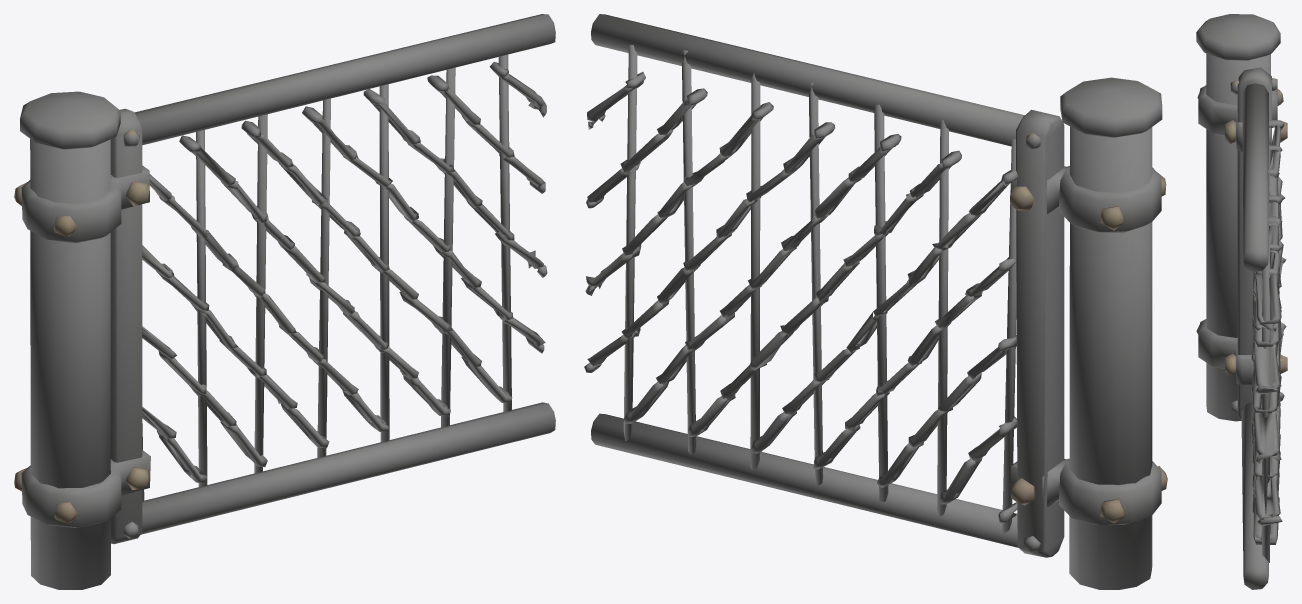
Rendered from selected.glb.
The picture shows the model from 3 angles, left to right: view 1: azimuth 30°, elevation 25°; view 2: azimuth 150°, elevation 25°; view 3: azimuth 270°, elevation 25°; orthographic projection. The views are drawn at different scales.
Parts seen in each view (by area): view 1: tripo_node_7d5d7b75-cd69-4587-aa6b-a3579c76ad7c; view 2: tripo_node_7d5d7b75-cd69-4587-aa6b-a3579c76ad7c; view 3: tripo_node_7d5d7b75-cd69-4587-aa6b-a3579c76ad7c.
Boxes of the visible parts, x1,y1,x2,y2 form: tripo_node_7d5d7b75-cd69-4587-aa6b-a3579c76ad7c: (14,14,555,589); tripo_node_7d5d7b75-cd69-4587-aa6b-a3579c76ad7c: (584,14,1167,589); tripo_node_7d5d7b75-cd69-4587-aa6b-a3579c76ad7c: (1196,14,1287,589).
Size of the model in its own units: 0.998 by 0.8457 by 0.1816.
1 material, 1 textured.
